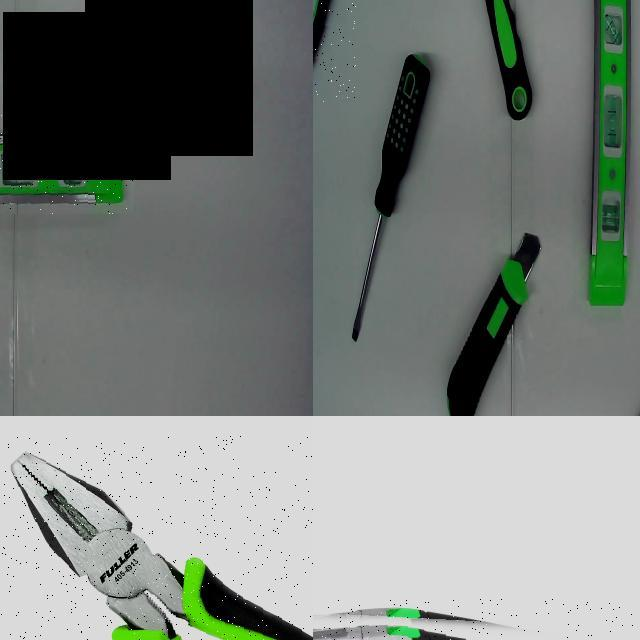estilete: (448, 233, 540, 414)
